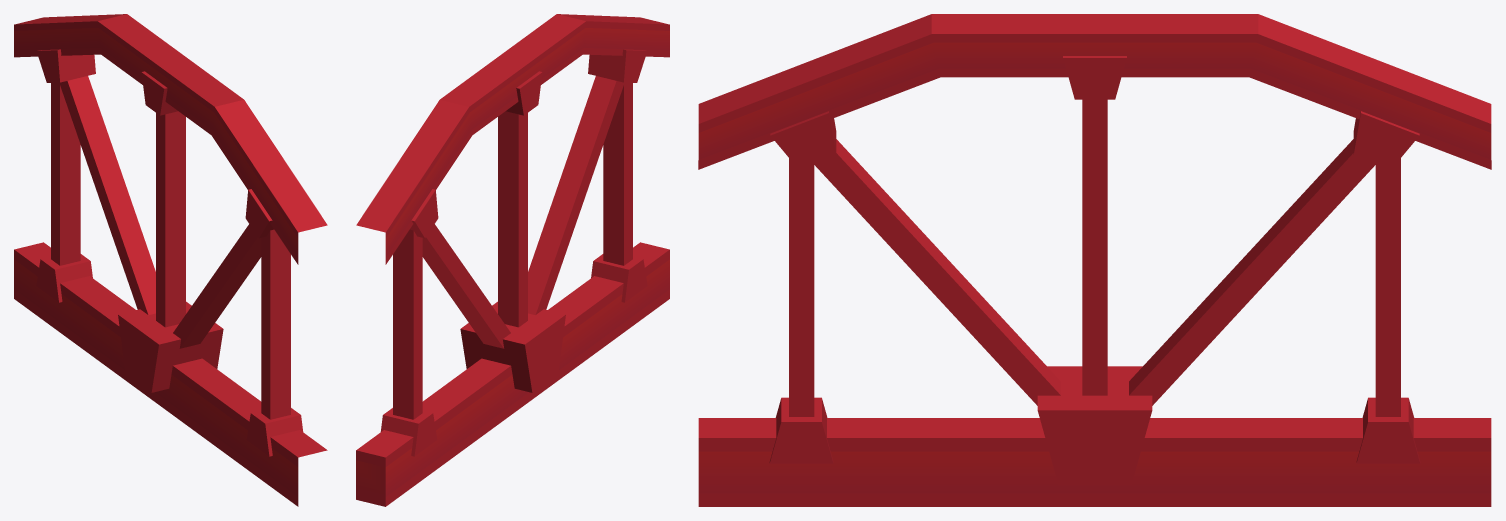
The model's file is bridge_steel_truss_straight.glb.
3 views of the same model, side by side, from view 1: azimuth 30°, elevation 25°; view 2: azimuth 150°, elevation 25°; view 3: azimuth 270°, elevation 25° (orthographic). The views are drawn at different scales.
Parts seen in each view (by area): view 1: bridge_steel_truss_straight; view 2: bridge_steel_truss_straight; view 3: bridge_steel_truss_straight.
Part boxes in pixels (x1=…): bridge_steel_truss_straight: x1=14, y1=14, x2=327, y2=506; bridge_steel_truss_straight: x1=356, y1=14, x2=669, y2=506; bridge_steel_truss_straight: x1=698, y1=14, x2=1491, y2=506.
Size of the model in its own units: 1.31 by 6.58 by 10.
Materials: 1 (1 with a texture image).
